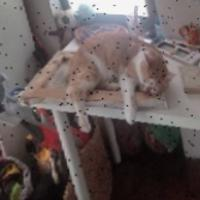asleep: (59, 29, 191, 133)
